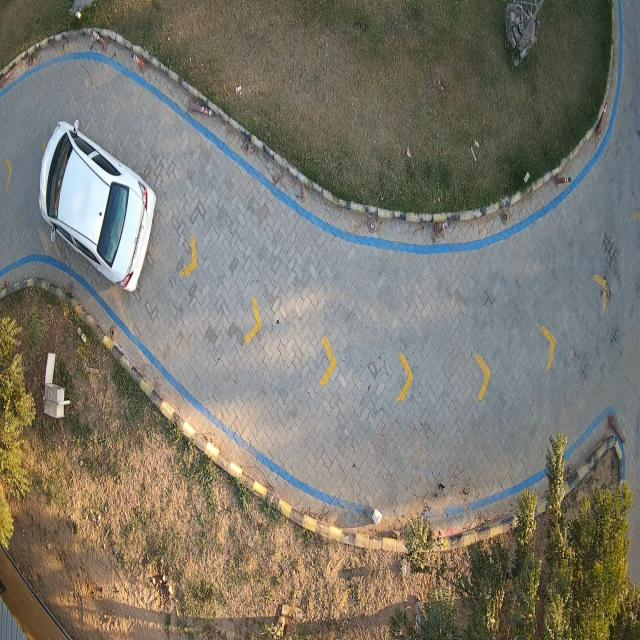car: (38, 124, 156, 292)
